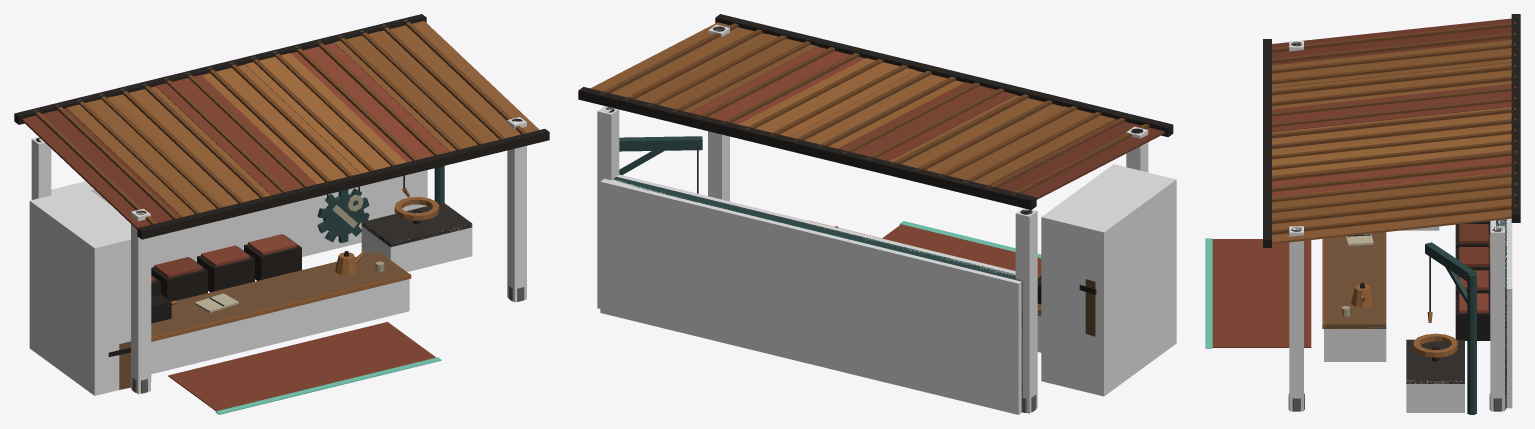
Rendered from camp_moss_stall.glb.
3 renders of one model, left to right at view 1: azimuth 30°, elevation 25°; view 2: azimuth 150°, elevation 25°; view 3: azimuth 270°, elevation 25°, orthographic. The views are drawn at different scales.
Parts seen in each view (by area): view 1: Body, camp_moss_stall-col-col; view 2: camp_moss_stall-col-col, Body; view 3: Body, camp_moss_stall-col-col.
Boxes of the visible parts, x1,y1,x2,y2 form: Body: [14, 14, 549, 414]; camp_moss_stall-col-col: [29, 117, 526, 395]; camp_moss_stall-col-col: [597, 24, 1176, 414]; Body: [578, 14, 1173, 412]; Body: [1205, 14, 1520, 414]; camp_moss_stall-col-col: [1289, 41, 1512, 412].
Bounding box in the file's own units: 13.8 × 6.08 × 8.62.
